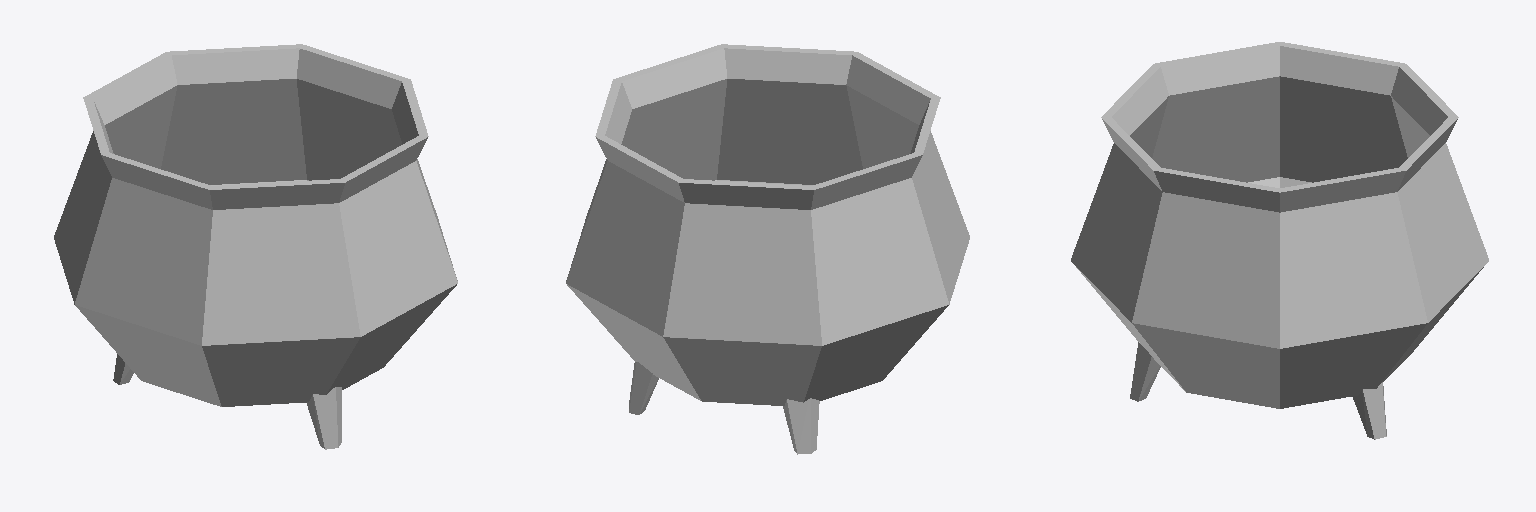
Rendered from pot.obj.
3 renders of one model, left to right at view 1: azimuth 30°, elevation 25°; view 2: azimuth 150°, elevation 25°; view 3: azimuth 270°, elevation 25°, orthographic.
Visible parts, largest first — view 1: pot_grp potBody_geo, pot_grp potLeg1_geo; view 2: pot_grp potBody_geo, pot_grp potLeg2_geo, potLeg3_geo pot_grp; view 3: pot_grp potBody_geo, potLeg3_geo pot_grp, pot_grp potLeg1_geo.
Part boxes in pixels (x1,y1,x2,y2): pot_grp potBody_geo: (54,44,457,406); pot_grp potLeg1_geo: (307,387,341,449); pot_grp potBody_geo: (566,44,969,405); pot_grp potLeg2_geo: (783,398,819,454); potLeg3_geo pot_grp: (629,362,658,414); pot_grp potBody_geo: (1071,42,1488,408); potLeg3_geo pot_grp: (1352,382,1386,439); pot_grp potLeg1_geo: (1130,342,1160,401).
Bounding box in the file's own units: 3.46 × 2.53 × 3.46.